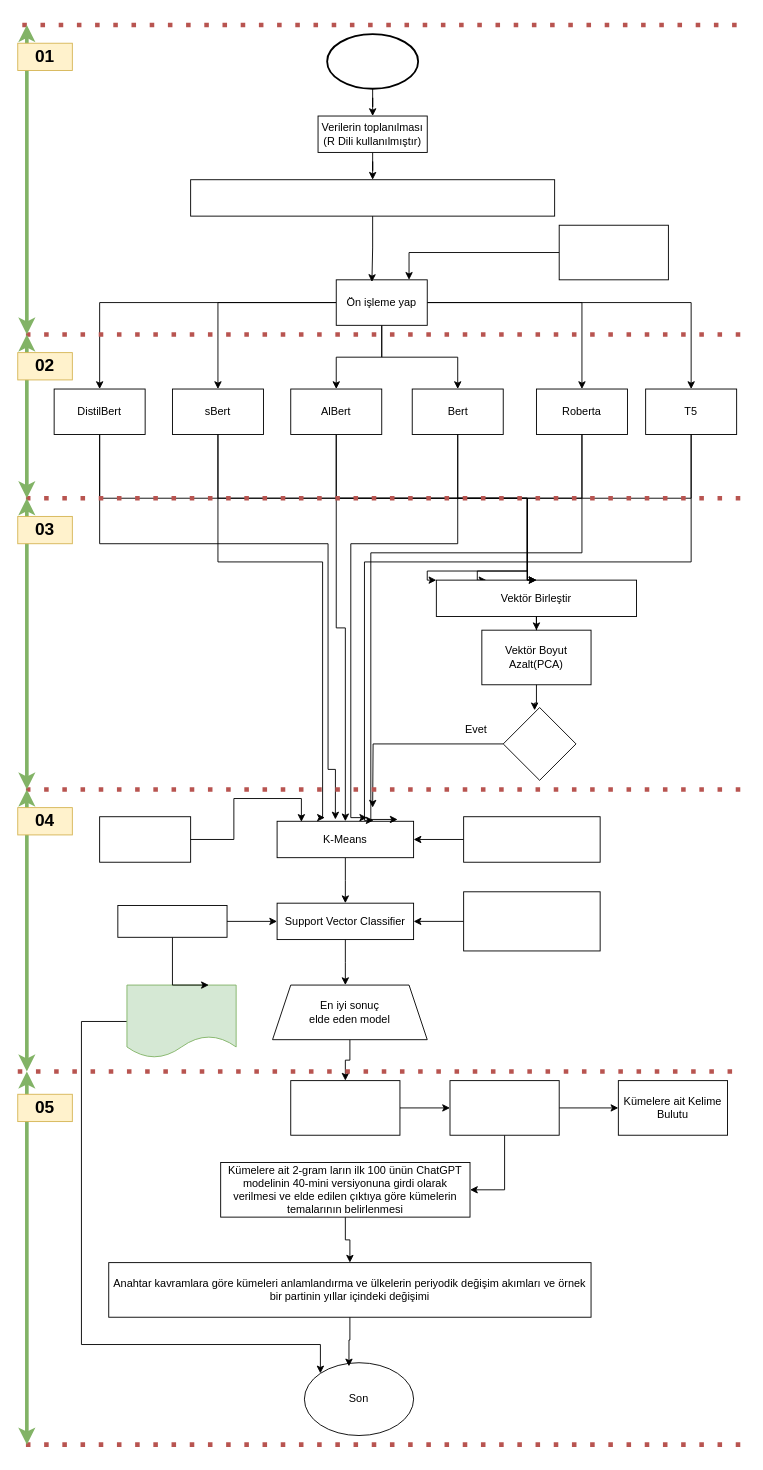
Some shapes in this 763 by 1470 pixel diagram are drawn without their labels. Each missing label, with the box of its shape:
ABD=32 UK=71 TR=28 Greece=49 Germany=40 Cyprus=20 Bulgaria=22: (190, 179, 555, 216)
BAŞLA: (326, 33, 419, 89)
ELbow ile küme sayısı belirleme: (99, 816, 191, 862)
F1- Score Accuracy Recall Confusion Matrix: (463, 891, 600, 951)
Kayıp oranı<%2: (502, 707, 576, 780)
Kümelere ait 2-gram: (449, 1080, 559, 1135)
Modeli kaydet: (117, 905, 227, 937)
NLTK(İngilizce) Stop words: (290, 1080, 400, 1135)
partyNames.txt: (558, 224, 668, 280)
Silhouette Score David-Bouldin Index Calinski-Harabasz: (463, 816, 600, 862)
Yeni cümleyi sınıflandır-kümele: (126, 984, 236, 1058)
